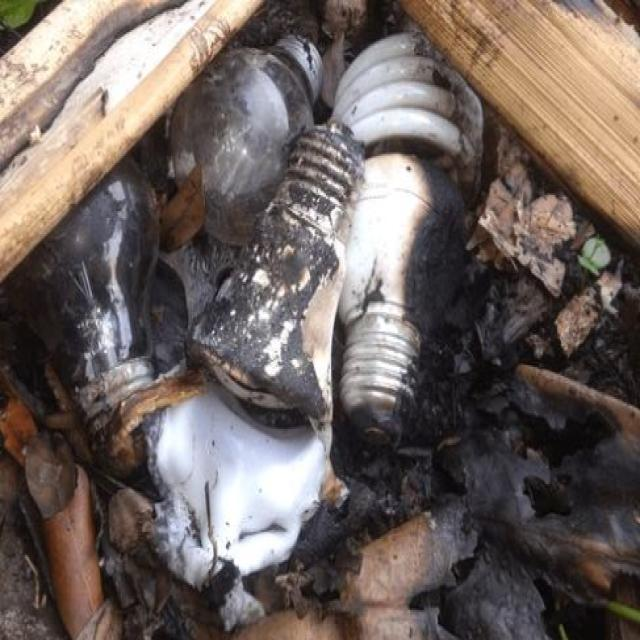electronic: (1, 0, 484, 633), (186, 117, 366, 425), (336, 147, 466, 445), (141, 378, 327, 586), (166, 30, 323, 247)
